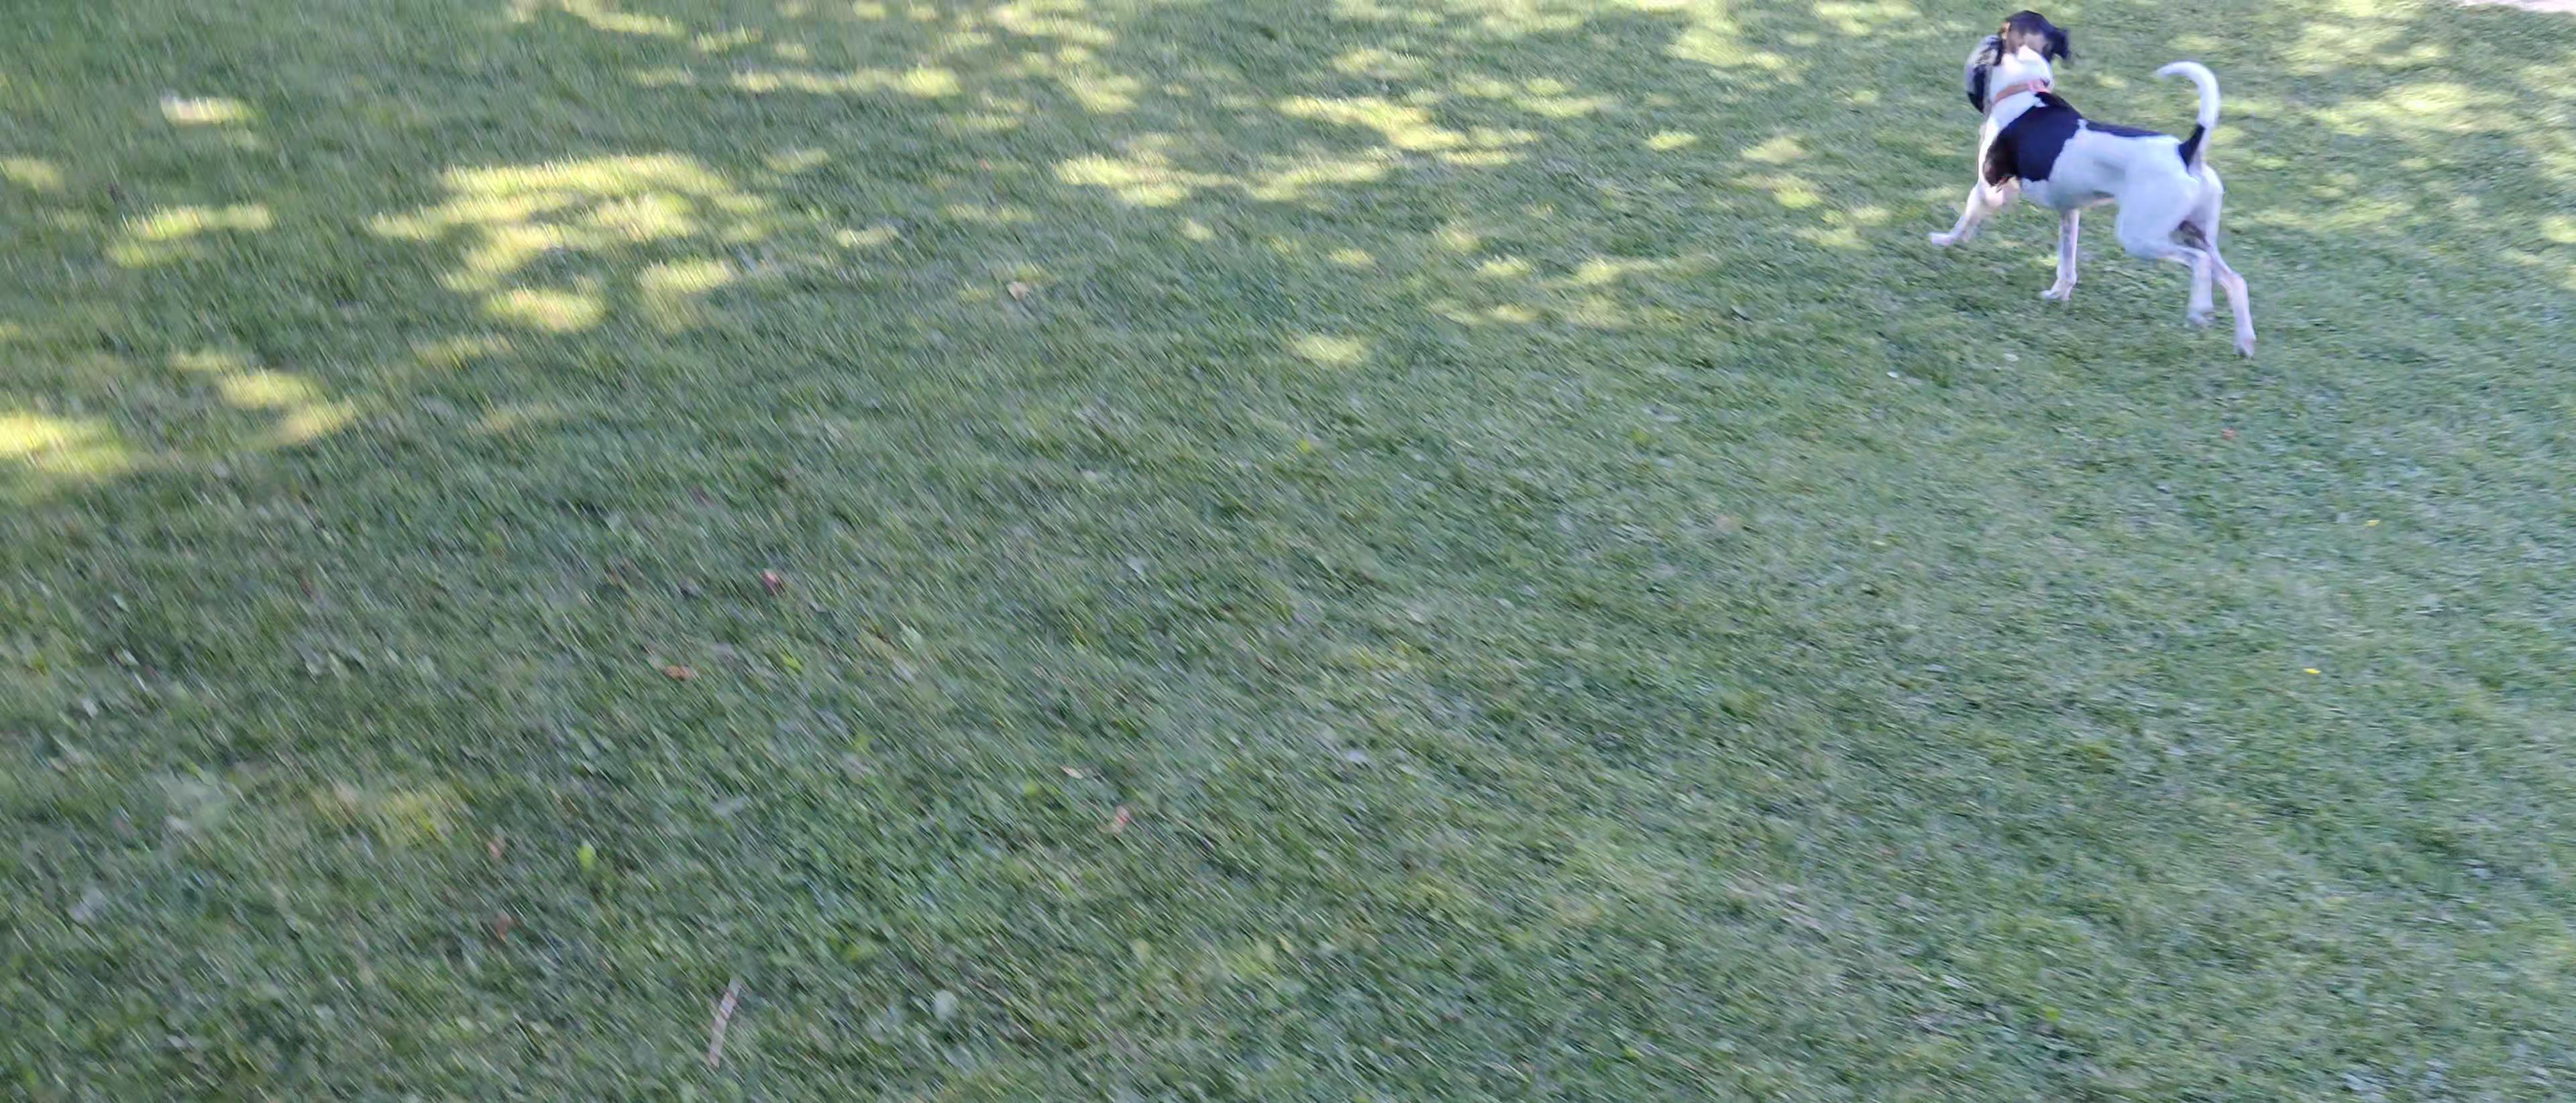Dog: (1919, 7, 2269, 368)
